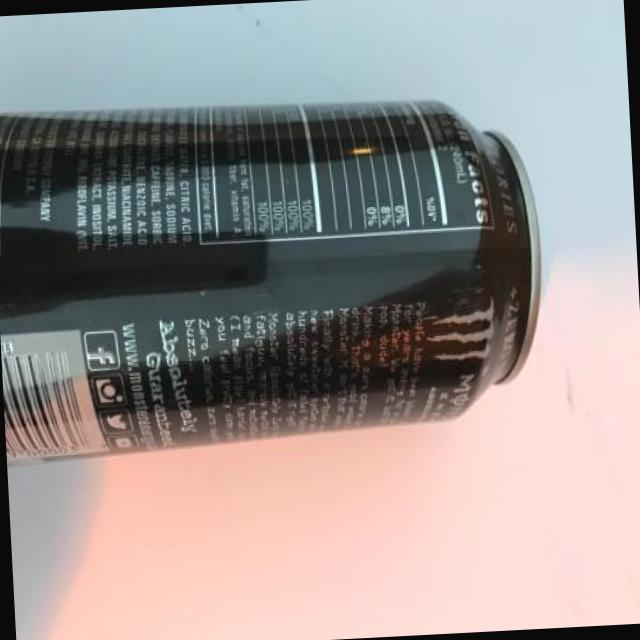kim_loai: (0, 105, 540, 462)
